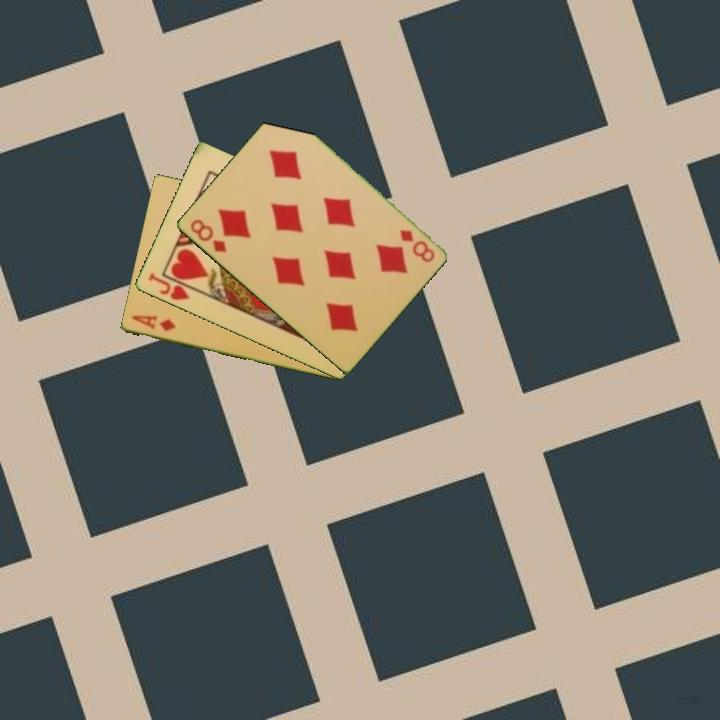8d: (186, 216, 229, 256), (396, 226, 437, 265)
Ad: (128, 312, 179, 334)
Jh: (144, 269, 192, 303)
